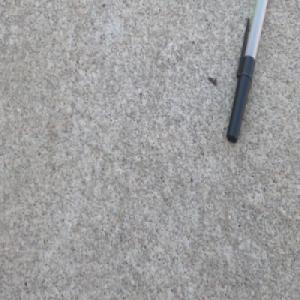Pen: (225, 0, 269, 144)
